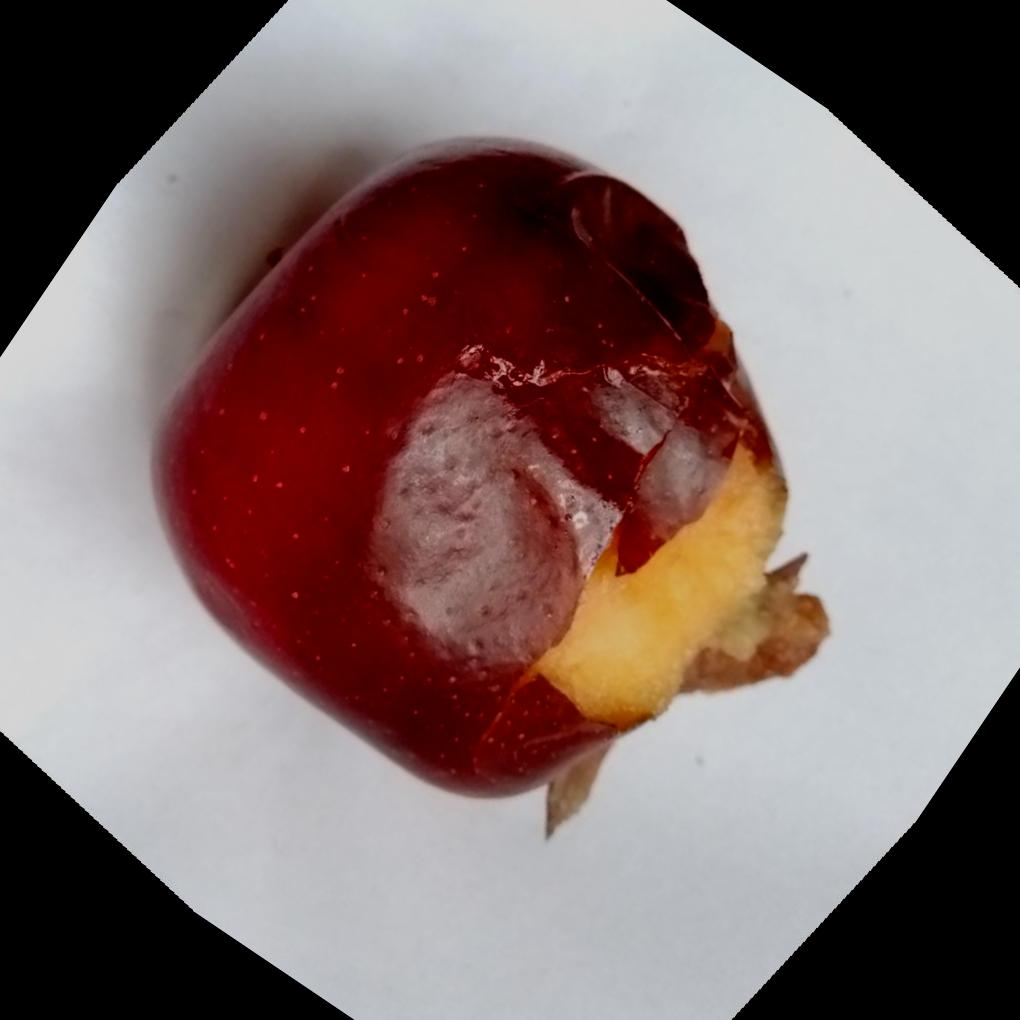FreshOrange: (147, 133, 827, 816)
